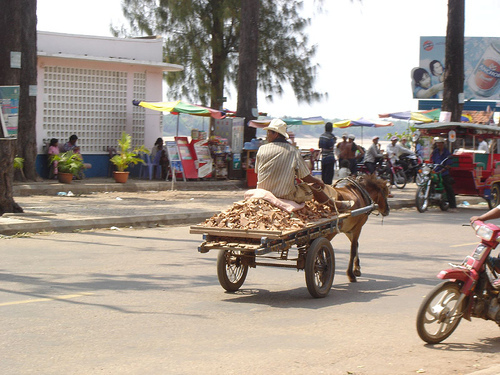horse: (306, 170, 393, 285)
